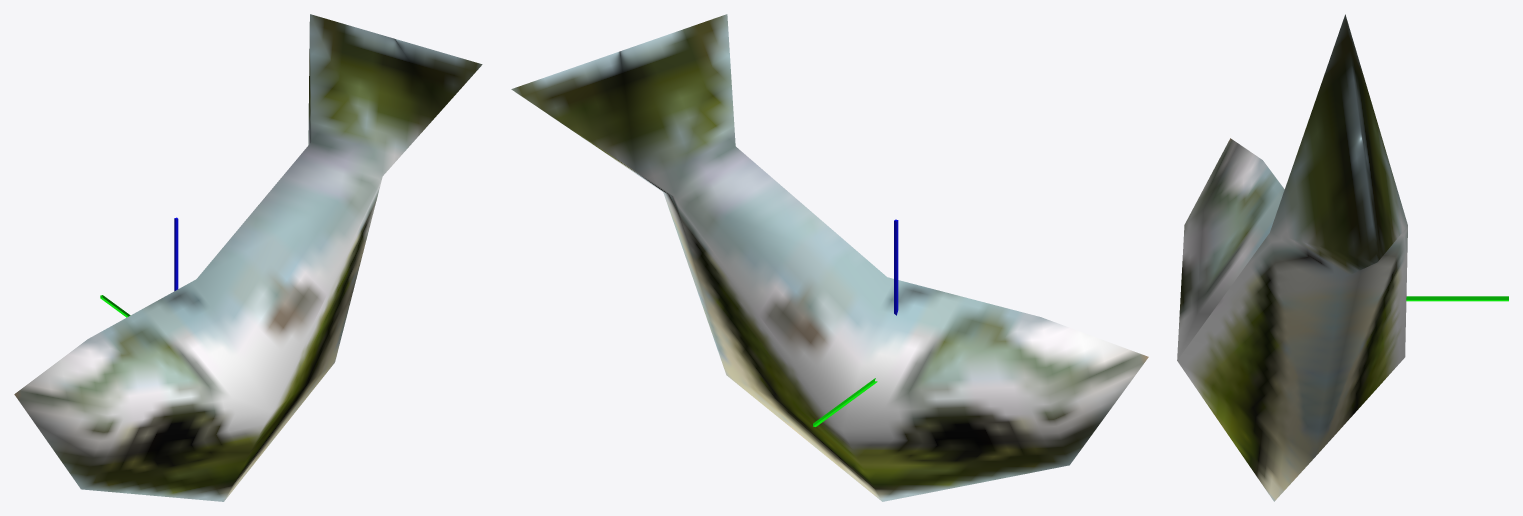
File: idle.glb
3 renders of one model, left to right at view 1: azimuth 30°, elevation 25°; view 2: azimuth 150°, elevation 25°; view 3: azimuth 270°, elevation 25°, orthographic. The views are drawn at different scales.
Parts seen in each view (by area): view 1: attachments a resource fishModel, Dummy_hotspot; view 2: attachments a resource fishModel, Dummy_hotspot; view 3: attachments a resource fishModel, Dummy_hotspot.
Boxes of the visible parts, <box> form: attachments a resource fishModel: <box>14,14,482,501</box>; Dummy_hotspot: <box>100,217,178,317</box>; attachments a resource fishModel: <box>511,14,1148,501</box>; Dummy_hotspot: <box>813,219,898,426</box>; attachments a resource fishModel: <box>1177,14,1407,501</box>; Dummy_hotspot: <box>1406,296,1508,301</box>.
Size of the model in its own units: 1.03 by 0.8184 by 0.4404.
Materials: 2 (1 with a texture image).
